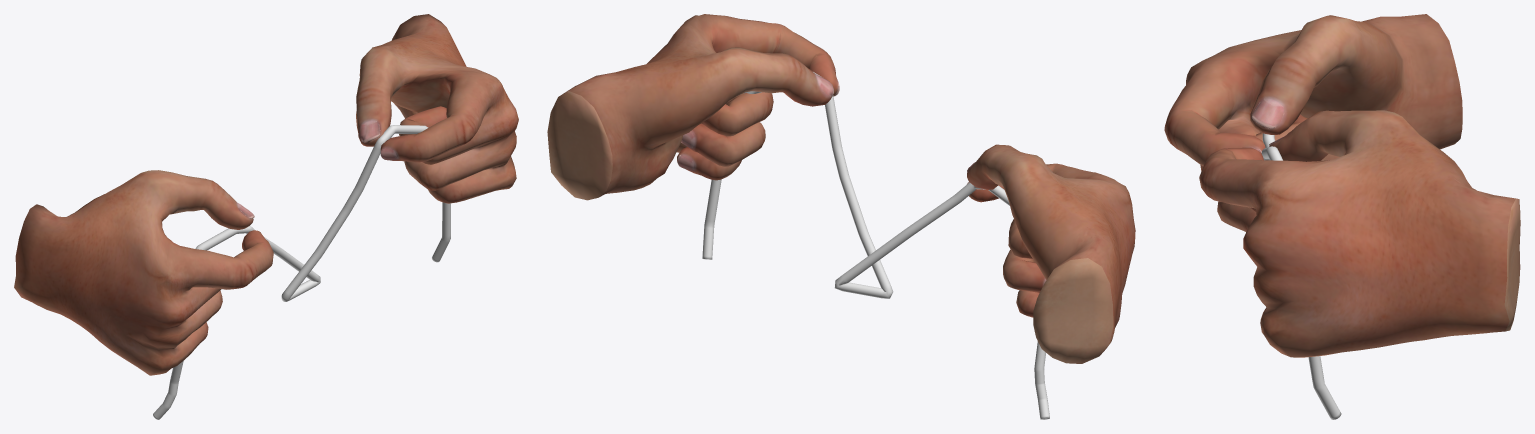
File: zfk_intro_assi_startposition.fbx
3 views of the same model, side by side, from view 1: azimuth 30°, elevation 25°; view 2: azimuth 150°, elevation 25°; view 3: azimuth 270°, elevation 25° (orthographic). The views are drawn at different scales.
Parts seen in each view (by area): view 1: Hand_R, Hand_L, faden_L, faden_R; view 2: Hand_L, Hand_R, faden_L, faden_R; view 3: Hand_L, Hand_R, faden_L.
Part boxes in pixels (bbox=[...]): Hand_R: bbox=[14, 170, 273, 375]; Hand_L: bbox=[356, 14, 518, 203]; faden_L: bbox=[281, 125, 450, 301]; faden_R: bbox=[153, 225, 320, 419]; Hand_L: bbox=[547, 14, 839, 200]; Hand_R: bbox=[967, 144, 1135, 363]; faden_L: bbox=[702, 72, 893, 298]; faden_R: bbox=[834, 182, 1049, 419]; Hand_L: bbox=[1199, 110, 1520, 357]; Hand_R: bbox=[1164, 14, 1462, 231]; faden_L: bbox=[1261, 146, 1341, 419].
Bounding box in the file's own units: 36.53 × 21.41 × 17.82.
